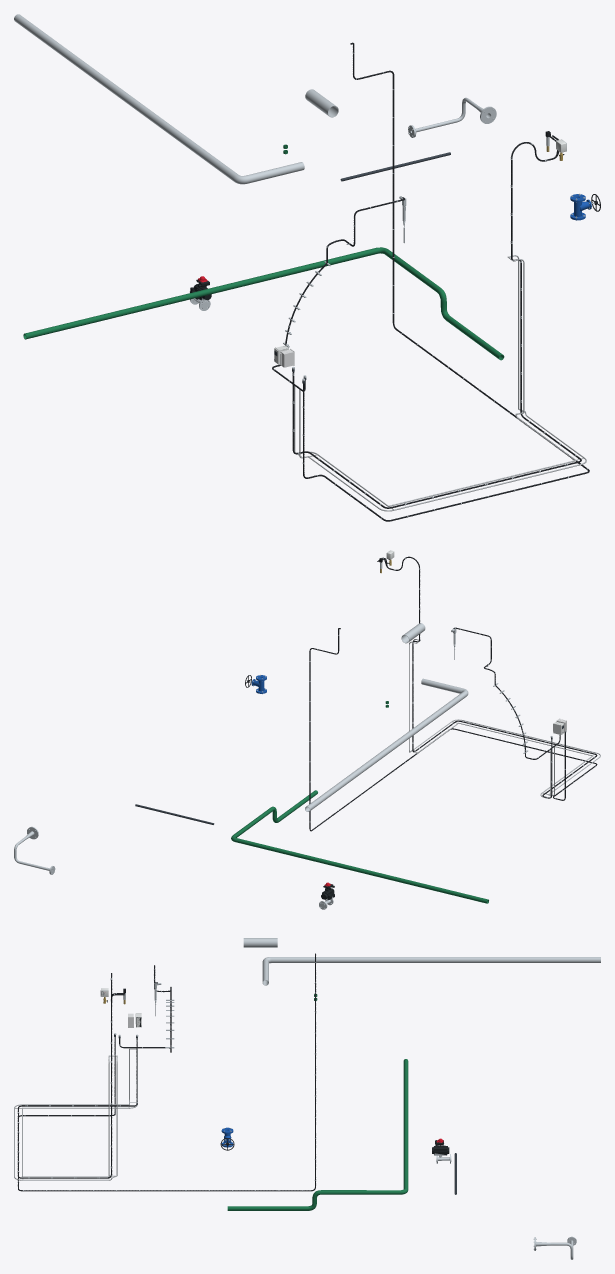
3 views of the same model, one above another, from view 1: azimuth 30°, elevation 25°; view 2: azimuth 150°, elevation 25°; view 3: azimuth 270°, elevation 25° (orthographic). The views are drawn at different scales.
Visible parts, largest first — view 1: suction_common / green, safety_vent_1 / steel, cables / zinc, mod_eco_drive_cable / black, wiring_pressure_switch_3 / black, wiring_pressure_transmitter / black, fv_to_trap_gap / steel; view 2: suction_common / green, safety_vent_1 / steel, mod_eco_drive_cable / black, cables / zinc, wiring_pressure_switch_3 / black, wiring_pressure_transmitter / black; view 3: safety_vent_1 / steel, suction_common / green, cables / zinc, mod_eco_drive_cable / black, wiring_pressure_transmitter / black, wiring_pressure_switch_3 / black.
Part boxes in pixels (x1,y1,x2,y2): suction_common / green: (23,247,504,360); safety_vent_1 / steel: (14,14,304,184); cables / zinc: (294,255,586,511); mod_eco_drive_cable / black: (303,42,589,521); wiring_pressure_switch_3 / black: (292,135,581,508); wiring_pressure_transmitter / black: (293,134,581,508); fv_to_trap_gap / steel: (408,97,496,137); suction_common / green: (231,790,488,903); safety_vent_1 / steel: (305,678,468,811); mod_eco_drive_cable / black: (309,628,597,831); cables / zinc: (409,639,600,798); wiring_pressure_switch_3 / black: (377,556,597,797); wiring_pressure_transmitter / black: (379,556,596,797); safety_vent_1 / steel: (262,957,600,985); suction_common / green: (227,1059,408,1210); cables / zinc: (14,1048,137,1180); mod_eco_drive_cable / black: (17,953,316,1191); wiring_pressure_transmitter / black: (17,973,137,1178); wiring_pressure_switch_3 / black: (17,973,137,1178).
Size of the model in its own units: 5.83 by 3.11 by 7.07.
